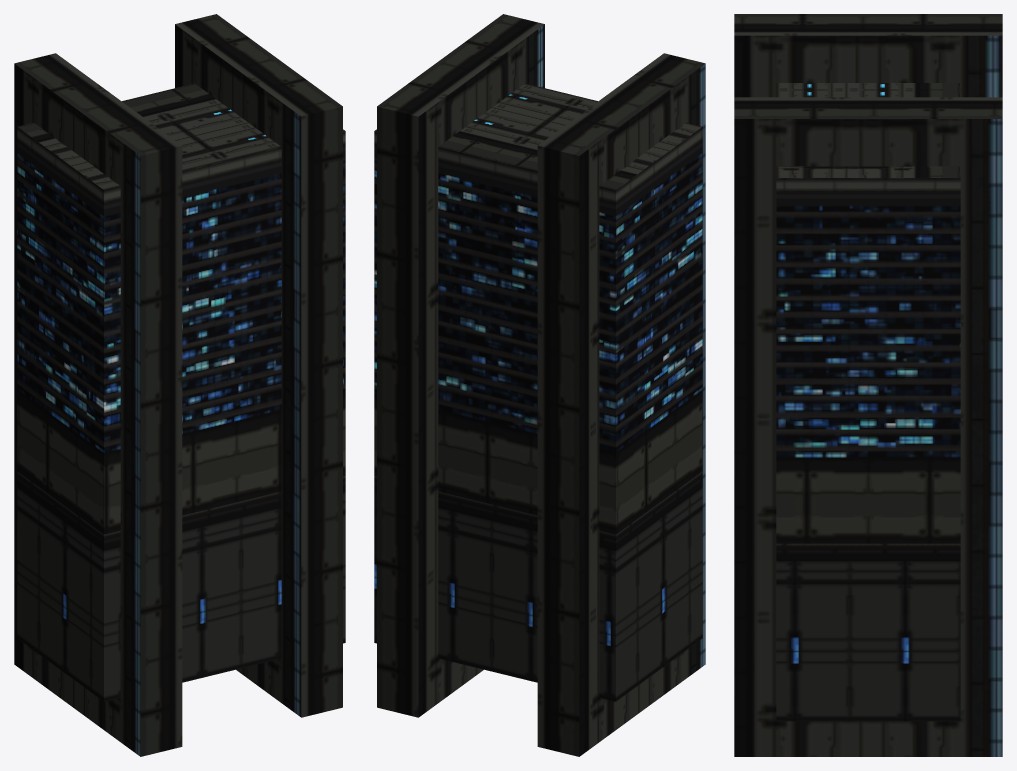
Rendered from Ultra_Addon9.fbx.
The picture shows the model from 3 angles, left to right: view 1: azimuth 30°, elevation 25°; view 2: azimuth 150°, elevation 25°; view 3: azimuth 270°, elevation 25°; orthographic projection. The views are drawn at different scales.
Visible parts, largest first — view 1: polySurface132; view 2: polySurface132; view 3: polySurface132.
Part boxes in pixels (bbox=[...]): polySurface132: bbox=[14, 14, 345, 756]; polySurface132: bbox=[374, 14, 705, 756]; polySurface132: bbox=[734, 14, 1002, 756].
Size of the model in its own units: 4.34 by 10.31 by 3.93.
1 material, 1 textured.
